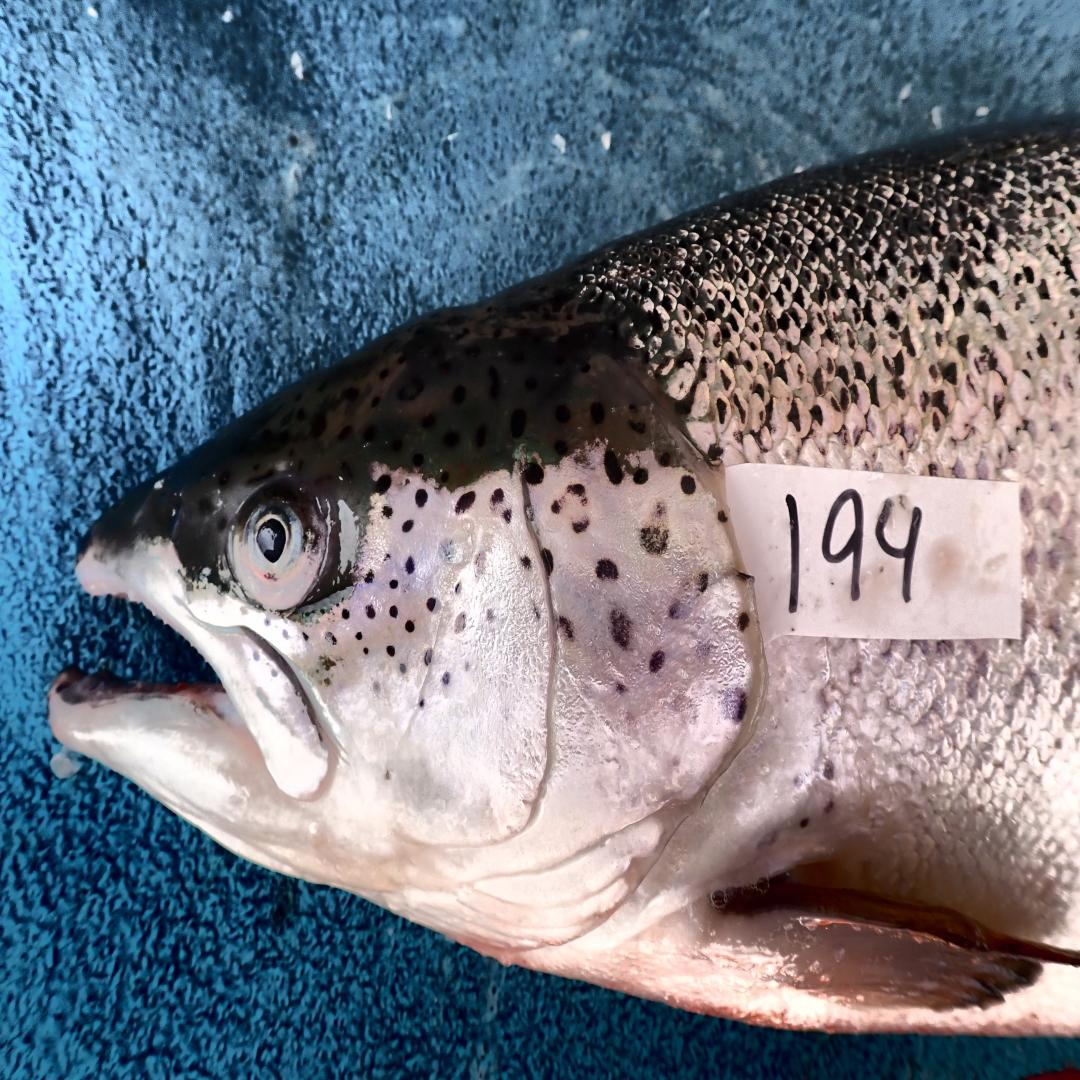spot: (721, 686, 747, 723), (639, 523, 669, 554), (610, 610, 633, 650), (603, 450, 622, 484), (456, 489, 477, 515), (595, 557, 618, 579), (523, 461, 544, 484), (557, 616, 576, 641), (374, 472, 393, 496), (439, 537, 456, 562), (669, 600, 691, 619), (567, 484, 586, 503), (695, 643, 712, 662), (650, 650, 664, 672), (681, 475, 696, 495), (426, 596, 443, 613), (542, 548, 553, 574), (475, 553, 486, 579), (551, 496, 565, 515), (633, 467, 648, 484), (453, 614, 467, 632), (696, 571, 708, 592), (737, 614, 751, 632), (657, 450, 671, 466), (491, 489, 504, 506), (325, 631, 338, 647), (416, 489, 428, 506), (572, 520, 589, 532), (405, 557, 416, 574), (531, 602, 540, 621), (616, 680, 628, 694), (382, 505, 393, 520), (405, 619, 416, 633), (520, 557, 531, 571), (717, 509, 728, 523), (503, 509, 513, 524), (366, 569, 375, 585), (365, 605, 375, 619), (424, 650, 432, 667), (390, 605, 399, 619), (403, 520, 413, 532), (455, 581, 463, 596), (382, 552, 392, 562), (487, 608, 495, 620), (342, 608, 350, 619), (386, 644, 394, 655), (399, 664, 407, 675), (390, 579, 399, 588), (443, 672, 449, 683), (356, 633, 363, 641), (363, 647, 369, 655), (420, 700, 425, 709)
